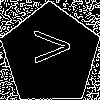V: (25, 30, 70, 64)
